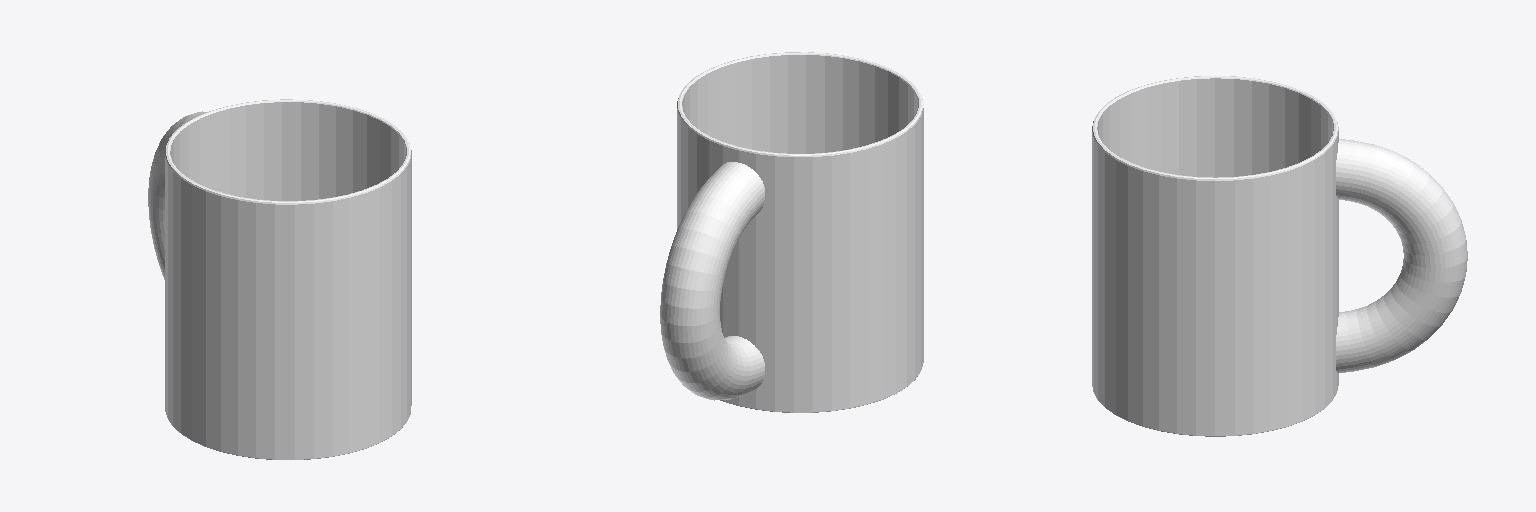
The model's file is Mug.obj.
The picture shows the model from 3 angles: view 1: azimuth 30°, elevation 25°; view 2: azimuth 150°, elevation 25°; view 3: azimuth 270°, elevation 25°; orthographic projection.
Parts seen in each view (by area): view 1: pCylinder2; view 2: pCylinder2; view 3: pCylinder2.
Boxes of the visible parts, x1,y1,x2,y2 form: pCylinder2: [148, 99, 411, 459]; pCylinder2: [660, 52, 923, 412]; pCylinder2: [1092, 76, 1467, 436].
Size of the model in its own units: 0.4691 by 0.5409 by 0.7147.